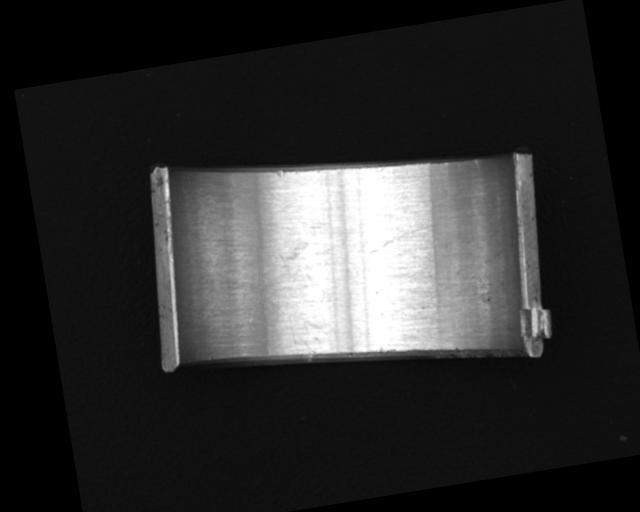blot: (257, 238, 316, 291)
bruise: (274, 169, 285, 178)
nick: (473, 157, 481, 172)
